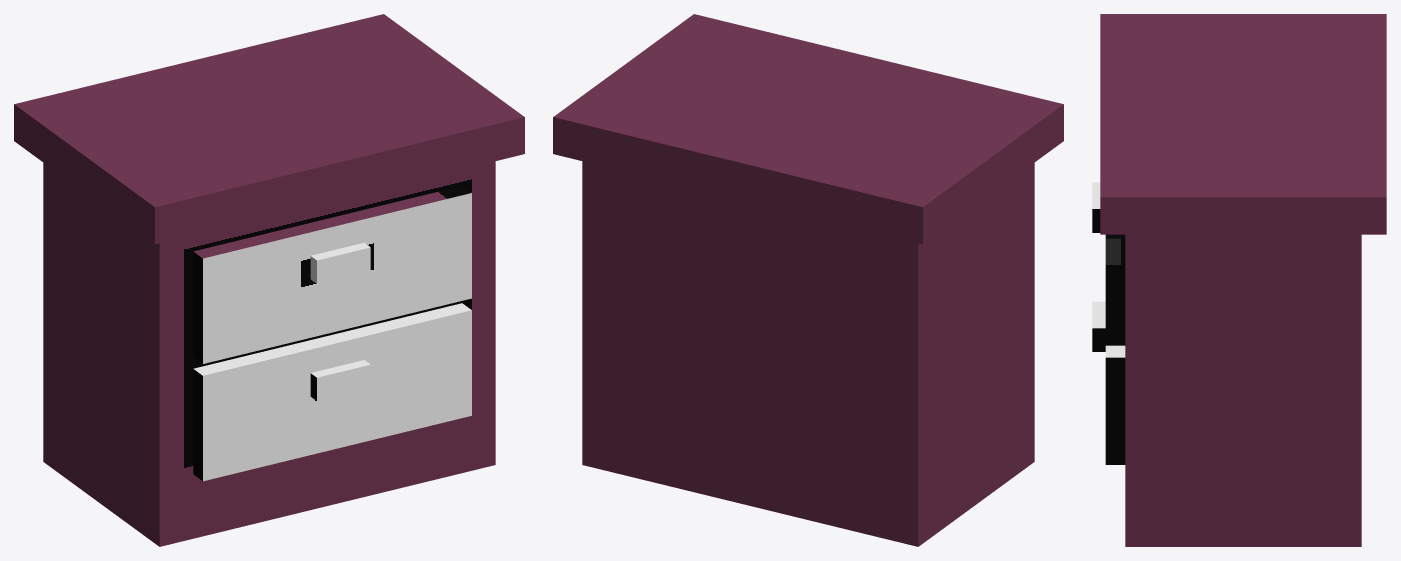
Rendered from bedside table.fbx.
The picture shows the model from 3 angles, left to right: view 1: azimuth 30°, elevation 25°; view 2: azimuth 150°, elevation 25°; view 3: azimuth 270°, elevation 25°; orthographic projection.
Parts seen in each view (by area): view 1: bedsidetable; view 2: bedsidetable; view 3: bedsidetable.
Part boxes in pixels (x1,y1,x2,y2): bedsidetable: (14, 14, 524, 546); bedsidetable: (553, 14, 1063, 546); bedsidetable: (1092, 14, 1386, 546).
Bounding box in the file's own units: 66 × 60.15 × 44.78.
